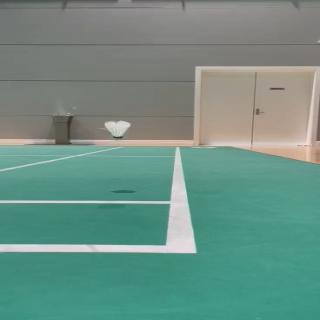Shuttle: (104, 120, 130, 140)
